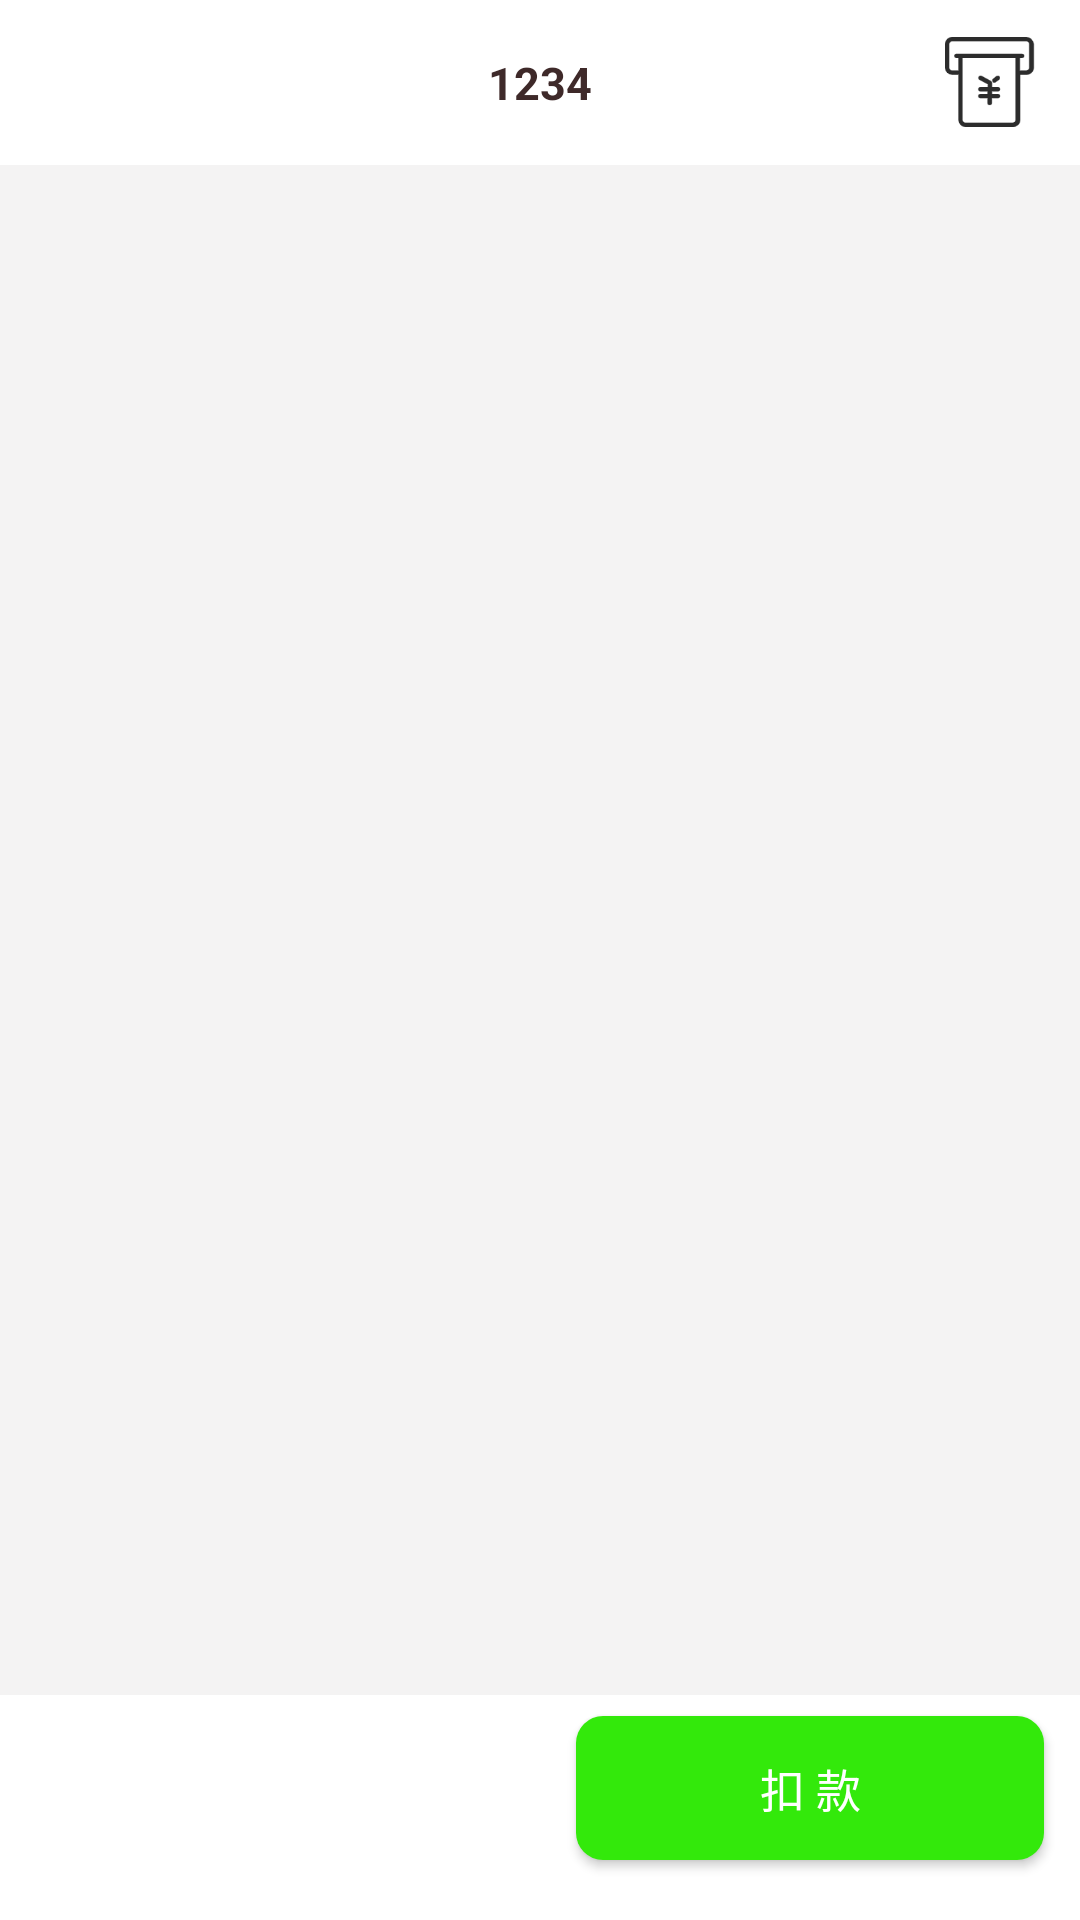

Where icons sit on this 1080 × 1920 app screen, as (x1, y1, x2, y2):
record: (945, 37, 1034, 127)
